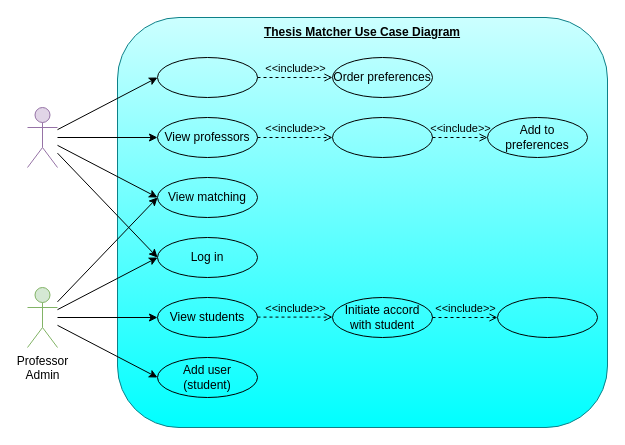
Some shapes in this 625 by 445 pixel diagram are drawn without their labels. Each missing label, with the centre of its shape:
"Choose proposal (project/topic)" goes at [547,317].
"Student" goes at [42,137].
"View preferences" goes at [207,77].
"View proposals of professor" goes at [382,137].
